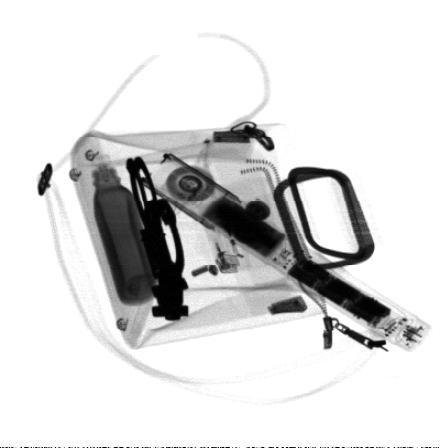Baton: (139, 154, 431, 352)
HandCuffs: (127, 155, 190, 321)
Lighter: (196, 195, 255, 274)
